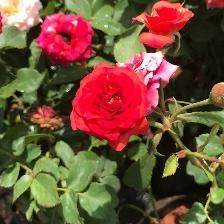rose: (70, 61, 150, 154), (34, 16, 97, 64)
